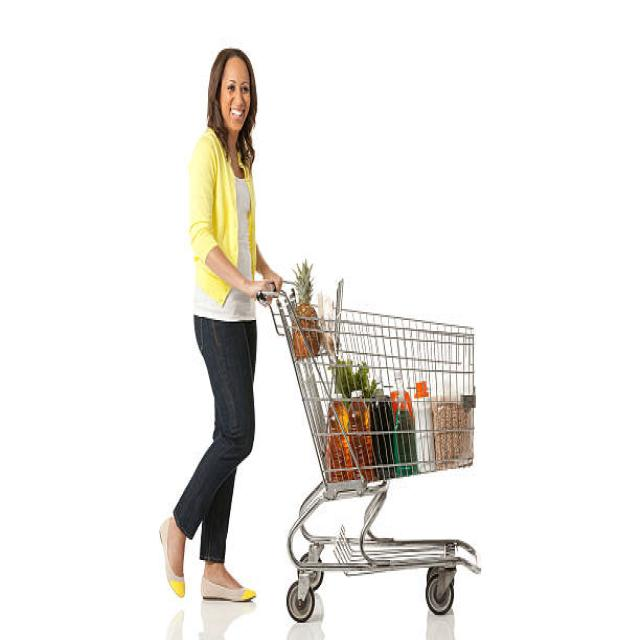Person: (158, 48, 282, 601)
